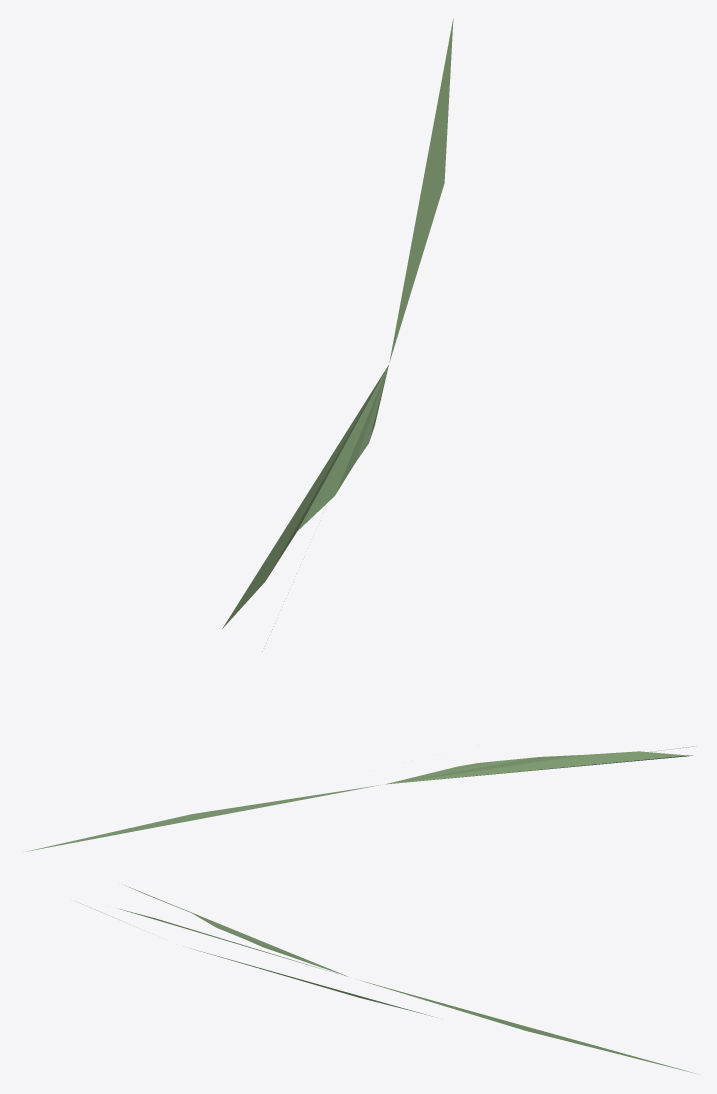
The model's file is c_1624_17825_parks.glb.
3 renders of one model, top to bottom at view 1: azimuth 30°, elevation 25°; view 2: azimuth 150°, elevation 25°; view 3: azimuth 270°, elevation 25°, orthographic. The views are drawn at different scales.
Parts seen in each view (by area): view 1: geometry_0; view 2: geometry_0; view 3: geometry_0.
Part boxes in pixels (x1,y1,x2,y2): geometry_0: (222,19,453,651); geometry_0: (25,746,696,851); geometry_0: (76,885,696,1073).
Size of the model in its own units: 347 by 11.99 by 478.
